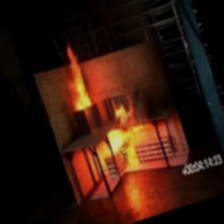fire: (83, 101, 160, 179), (44, 35, 109, 126)
